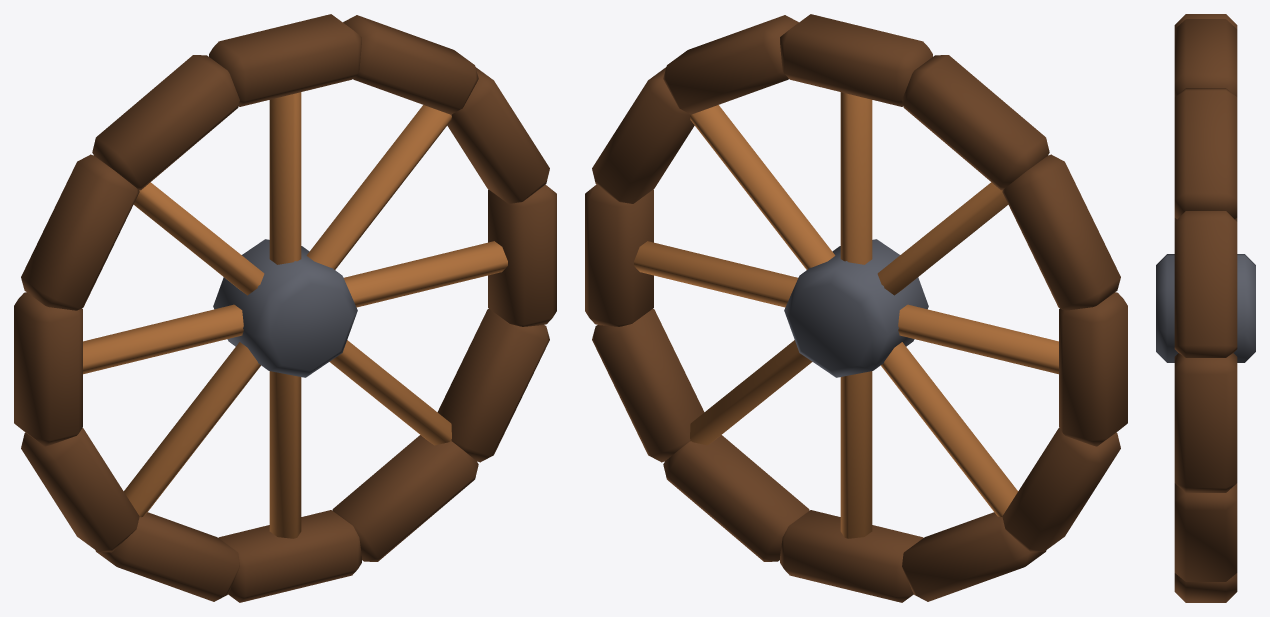
File: P_MedCartWheel.fbx
3 views of the same model, side by side, from view 1: azimuth 30°, elevation 25°; view 2: azimuth 150°, elevation 25°; view 3: azimuth 270°, elevation 25° (orthographic). The views are drawn at different scales.
Parts seen in each view (by area): view 1: M_CartWheel; view 2: M_CartWheel; view 3: M_CartWheel.
Part boxes in pixels (x1=…): M_CartWheel: x1=14, y1=14, x2=556, y2=602; M_CartWheel: x1=585, y1=14, x2=1127, y2=602; M_CartWheel: x1=1156, y1=14, x2=1255, y2=602.
Size of the model in its own units: 1.3 by 1.3 by 0.224.
1 material, 1 textured.
